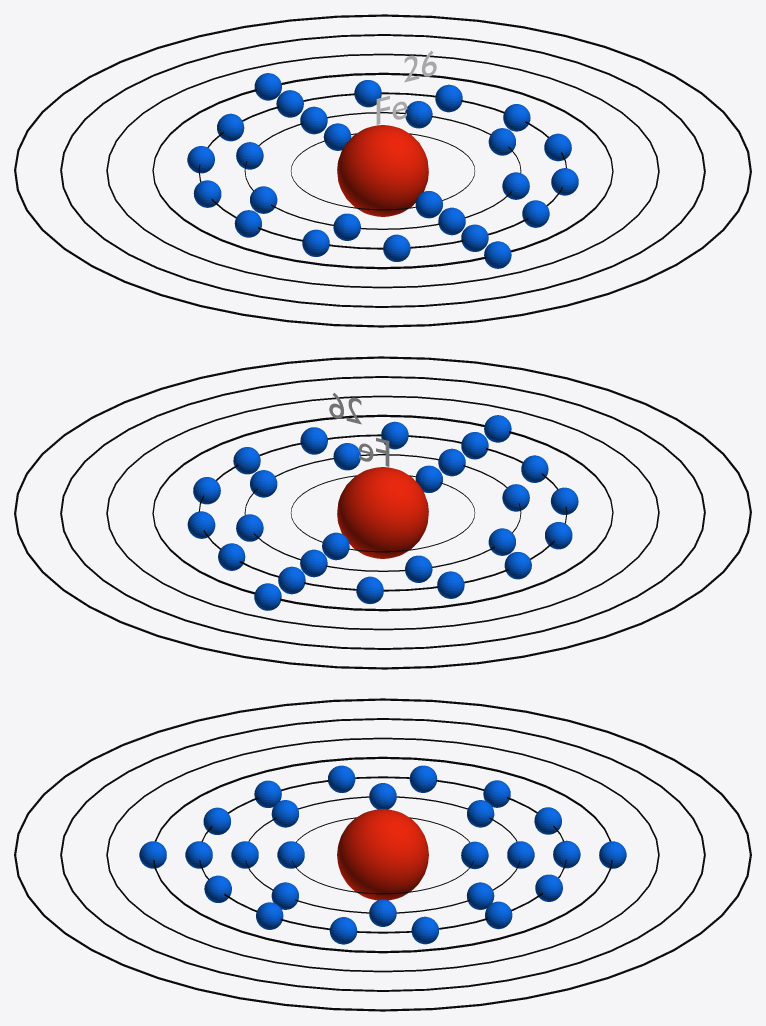
3 views of the same model, one above another, from view 1: azimuth 30°, elevation 25°; view 2: azimuth 150°, elevation 25°; view 3: azimuth 270°, elevation 25° (orthographic).
Parts seen in each view (by area): view 1: Fe3, Proton, Fe2, n7, n6, n5, n4, n3, Fe4, Fe1, n2; view 2: Fe3, Proton, Fe2, n7, n6, n5, n4, n3, Fe4, Fe1, n2; view 3: Fe3, Proton, Fe2, n7, n6, n5, n4, Fe1, n3, Fe4, n2, n1.
Boxes of the visible parts, x1,y1,x2,y2 form: Fe3: (187, 80, 578, 261); Proton: (337, 125, 428, 216); Fe2: (236, 101, 529, 240); n7: (14, 14, 751, 327); n6: (60, 34, 705, 307); n5: (106, 53, 659, 288); n4: (152, 72, 613, 269); n3: (198, 92, 566, 249); Fe4: (254, 73, 511, 268); Fe1: (323, 123, 442, 218); n2: (244, 112, 521, 229); Fe3: (187, 421, 578, 603); Proton: (337, 467, 428, 558); Fe2: (236, 443, 529, 582); n7: (14, 356, 751, 669); n6: (60, 376, 705, 649); n5: (106, 395, 659, 630); n4: (152, 414, 613, 611); n3: (198, 434, 567, 591); Fe4: (254, 415, 511, 610); Fe1: (322, 465, 442, 560); n2: (244, 454, 521, 571); Fe3: (185, 765, 580, 944); Proton: (337, 809, 428, 900); Fe2: (231, 783, 534, 926); n7: (14, 698, 751, 1011); n6: (60, 718, 705, 991); n5: (106, 737, 659, 972); n4: (153, 756, 612, 953); Fe1: (277, 841, 488, 869); n3: (199, 776, 566, 933); Fe4: (139, 841, 626, 868); n2: (245, 796, 520, 913); n1: (292, 817, 473, 894).
Size of the model in its own units: 802 by 180 by 802.
